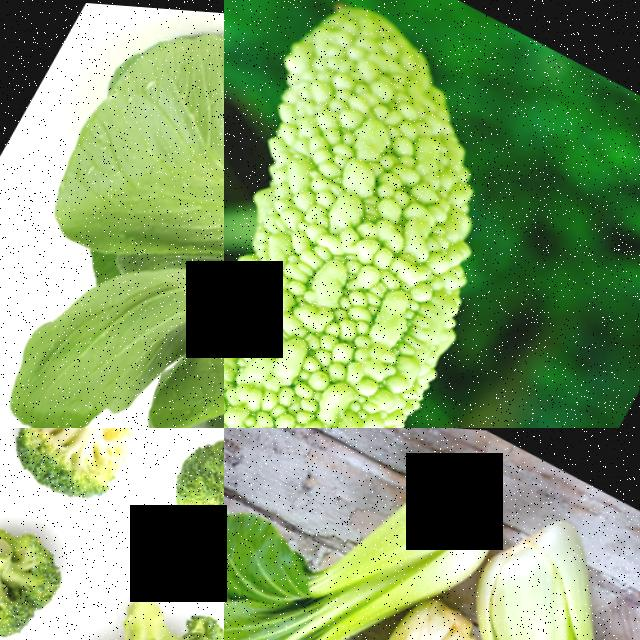bitter gourd: (224, 0, 606, 428)
bok choy: (0, 0, 224, 428), (224, 428, 490, 640), (430, 556, 640, 640)
broccoli: (0, 428, 190, 535), (134, 428, 224, 601), (0, 480, 85, 640), (67, 567, 224, 640)
